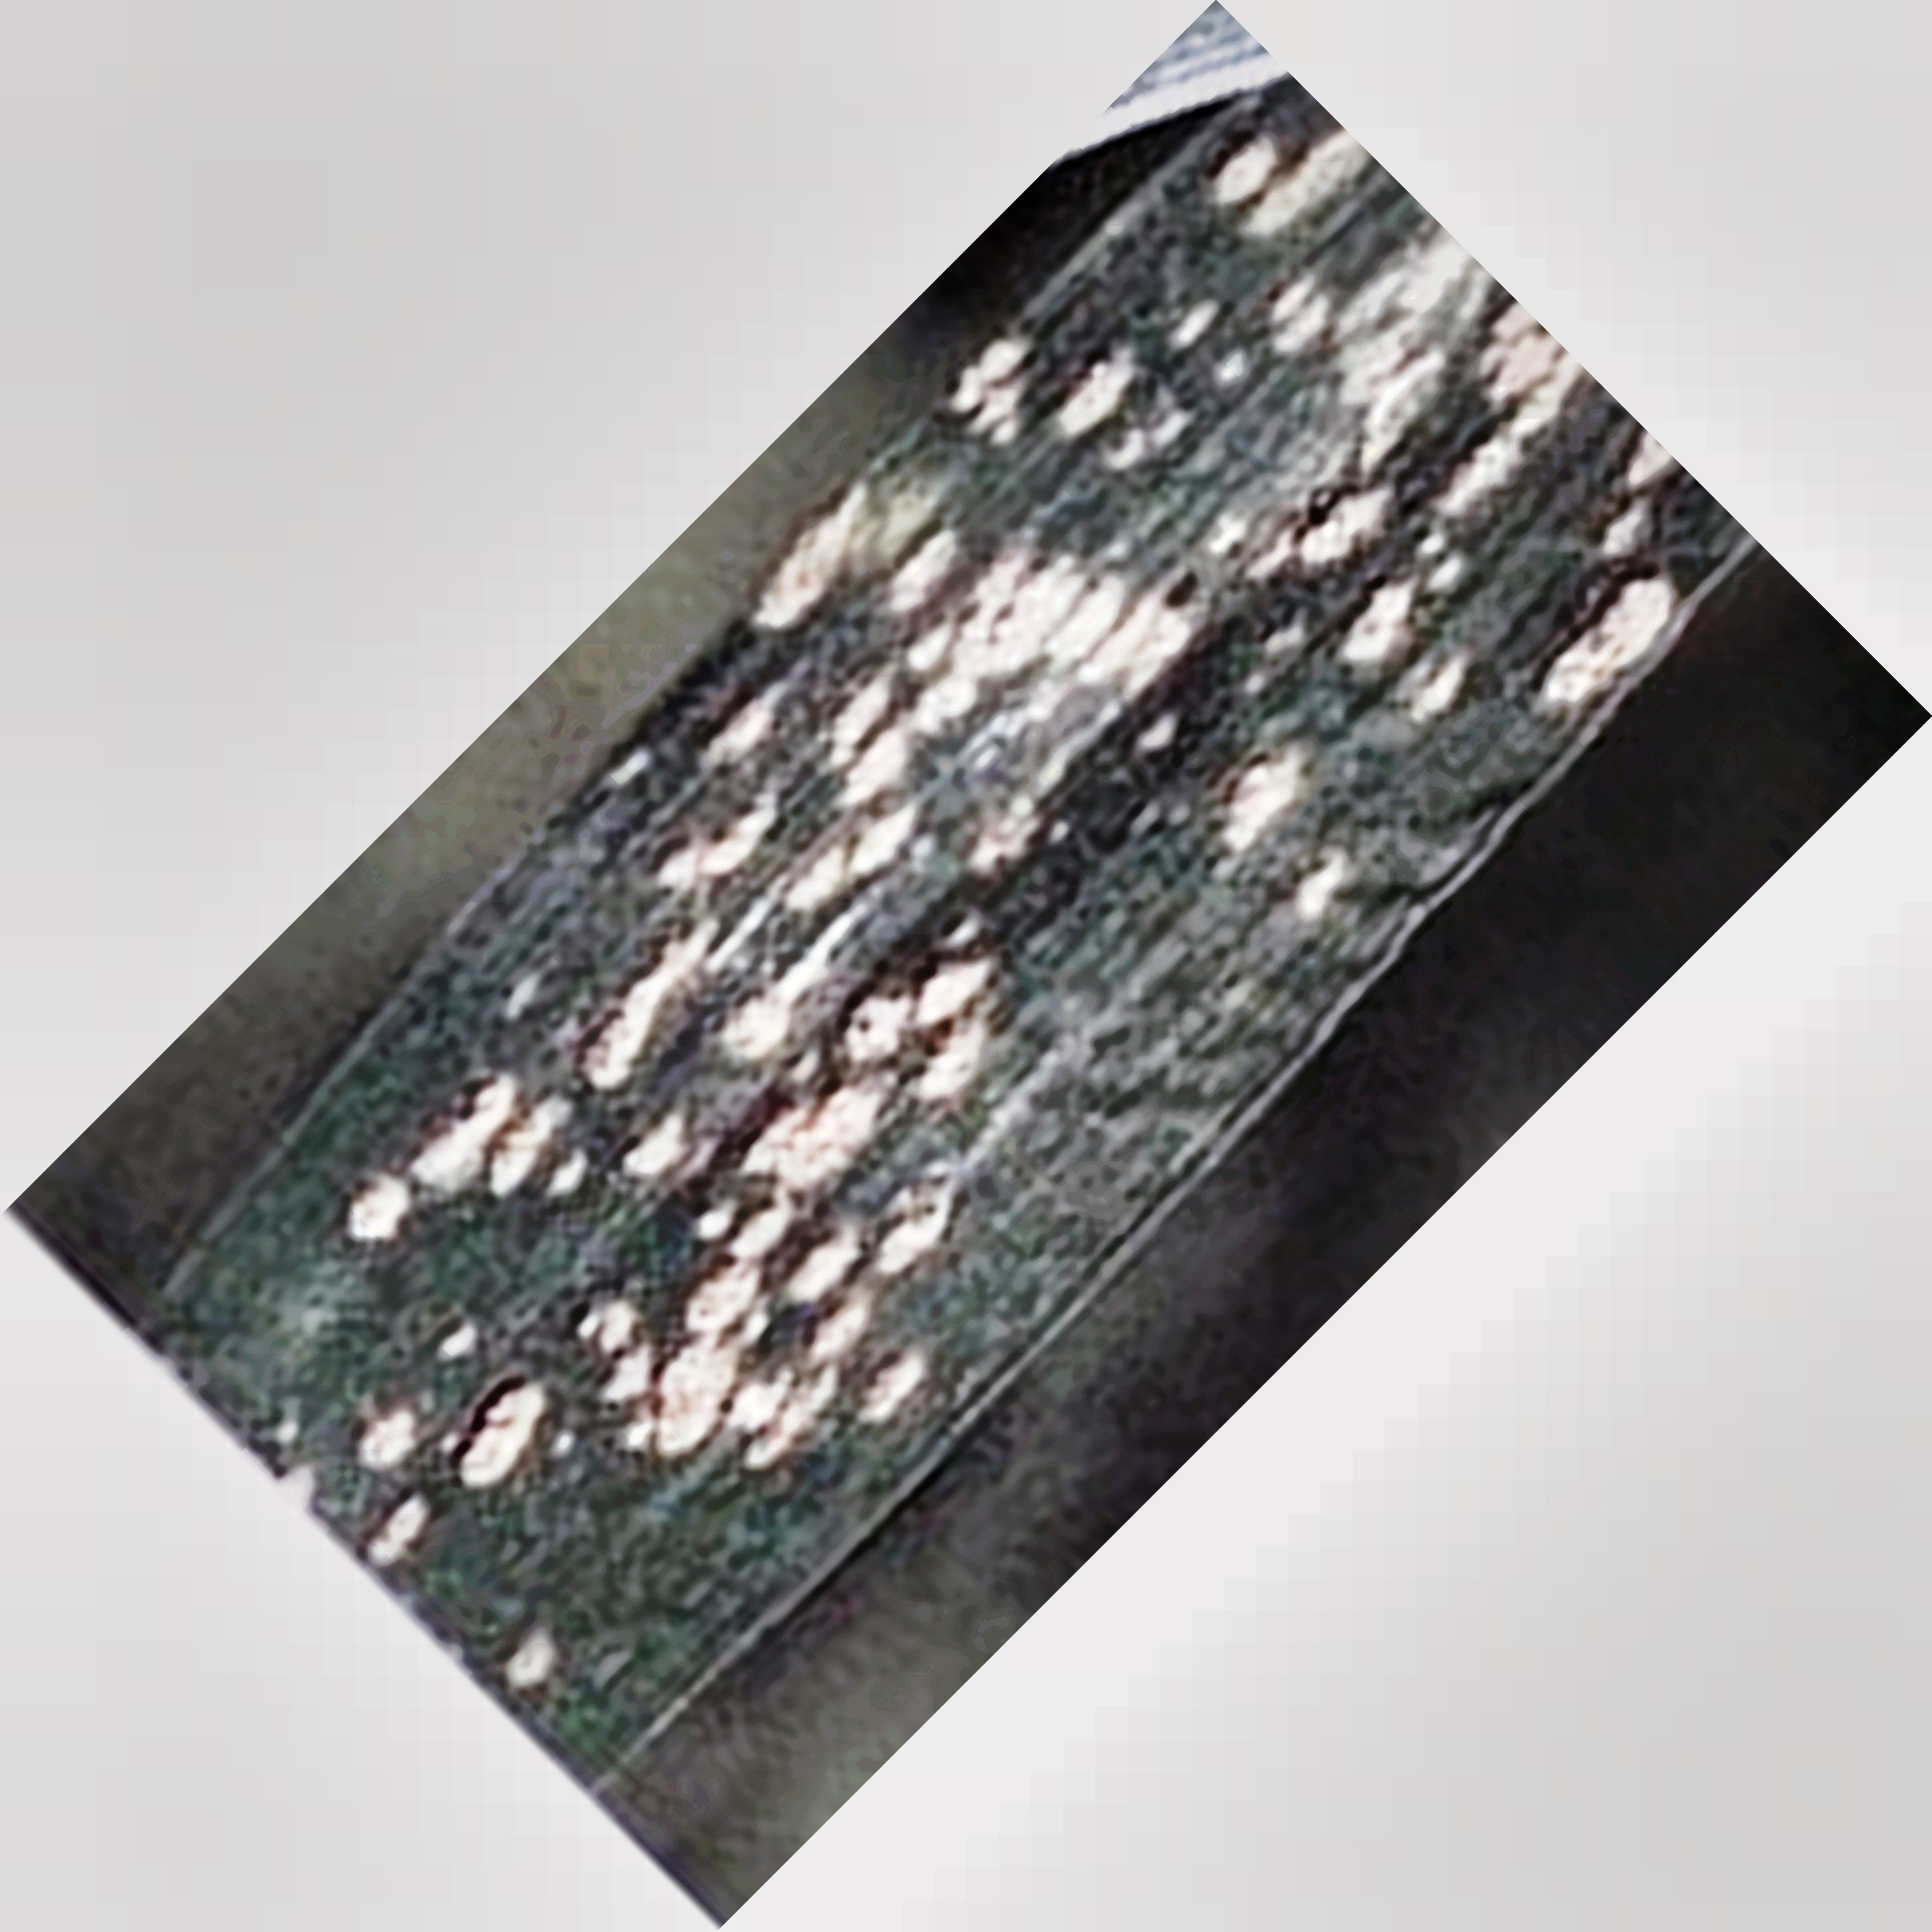Powdery Mildew: (386, 292, 1557, 1438)
